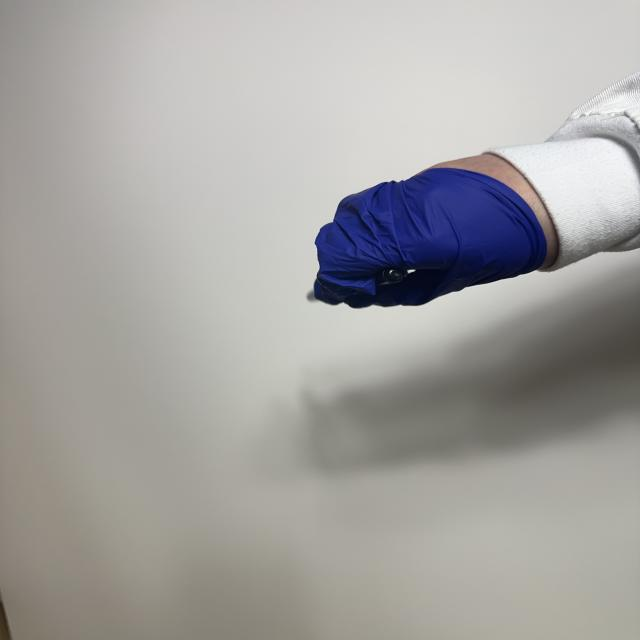glove_partial: (307, 146, 576, 314)
